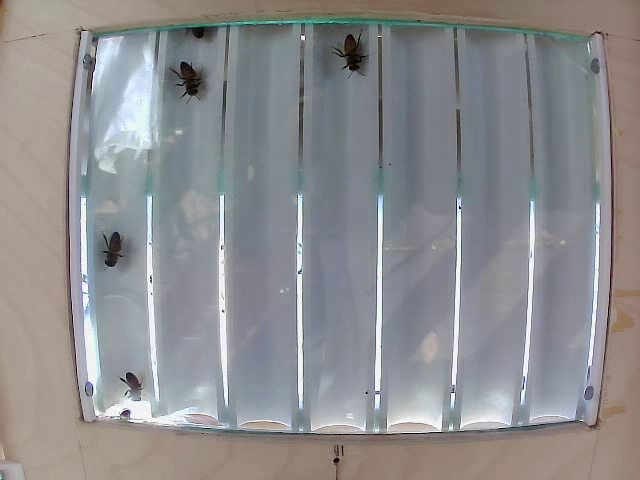bee: (177, 57, 219, 116), (338, 18, 371, 88), (90, 225, 131, 265), (109, 368, 153, 402)
